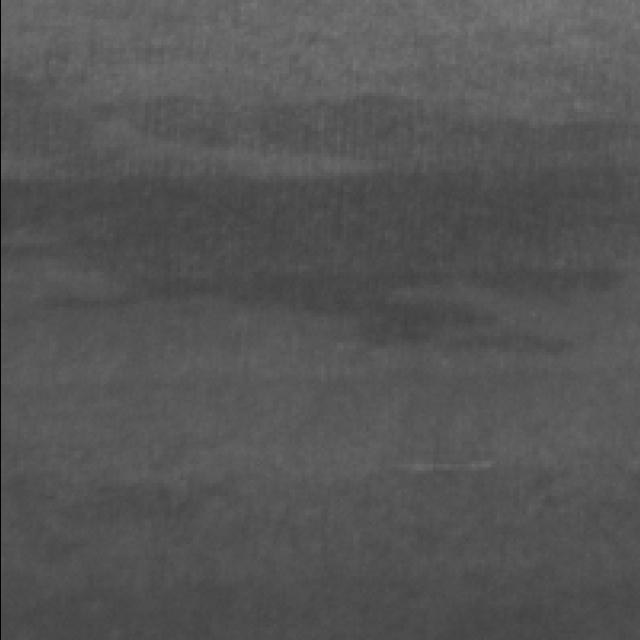inclusion: (0, 80, 640, 373), (65, 470, 226, 544)
